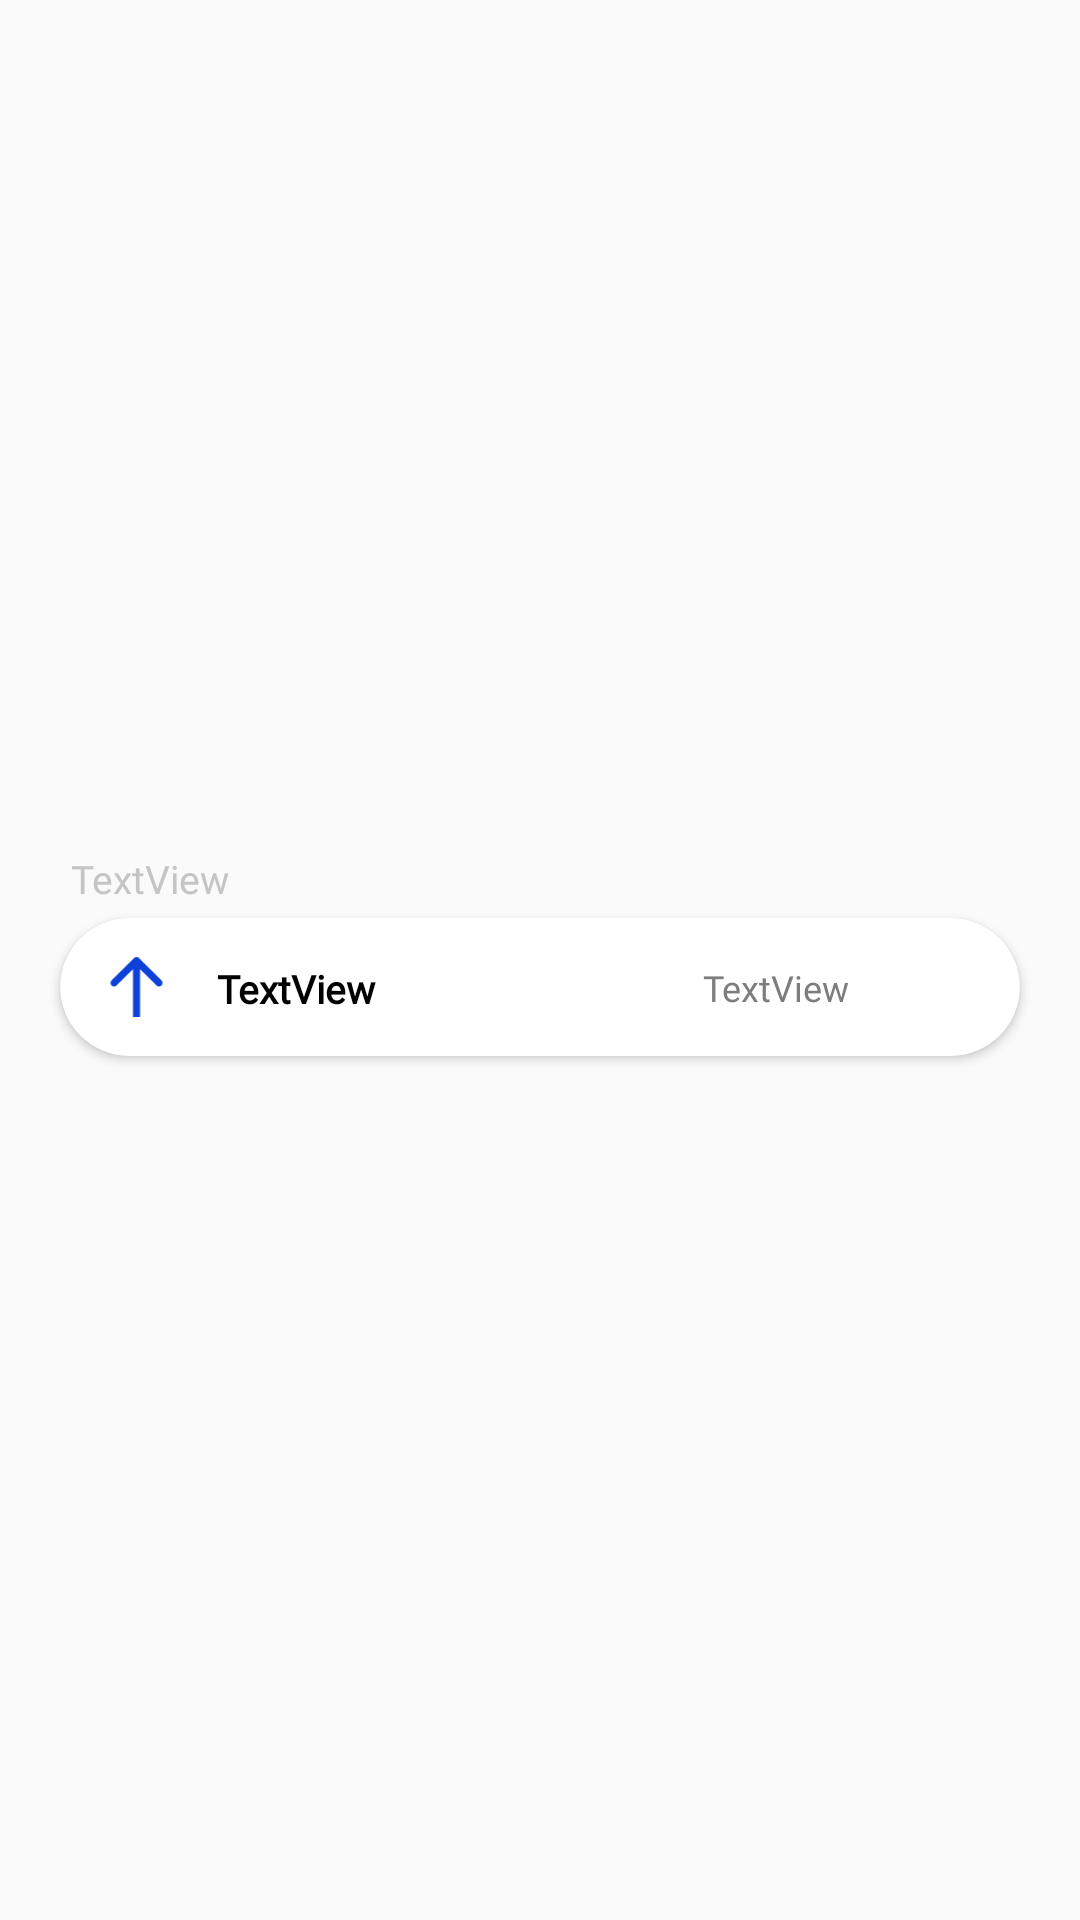

Named icons in this screenshot (1080×1920) and their bounding boxes, region(x1, y1, x2, y2):
arrowinput: region(110, 957, 163, 1017)
